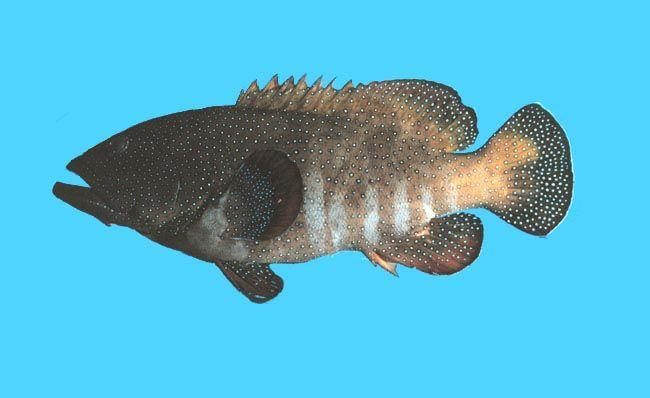fish: (52, 74, 574, 303)
